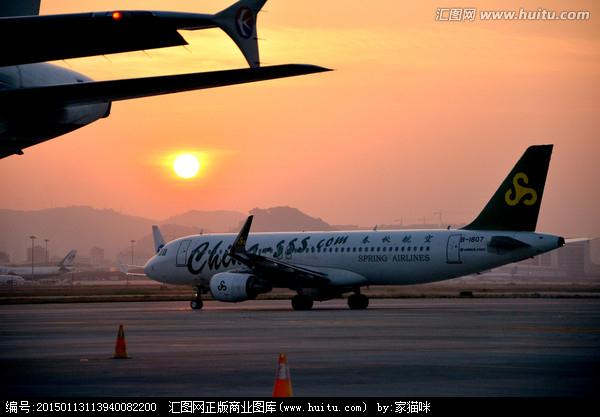airplane: (132, 143, 573, 308)
